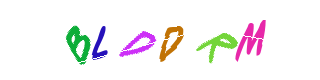B: (38, 0, 118, 80)
D: (119, 0, 199, 80), (131, 0, 211, 80)
L: (59, 0, 139, 80)
M: (164, 0, 244, 80)
R: (161, 0, 241, 80)
